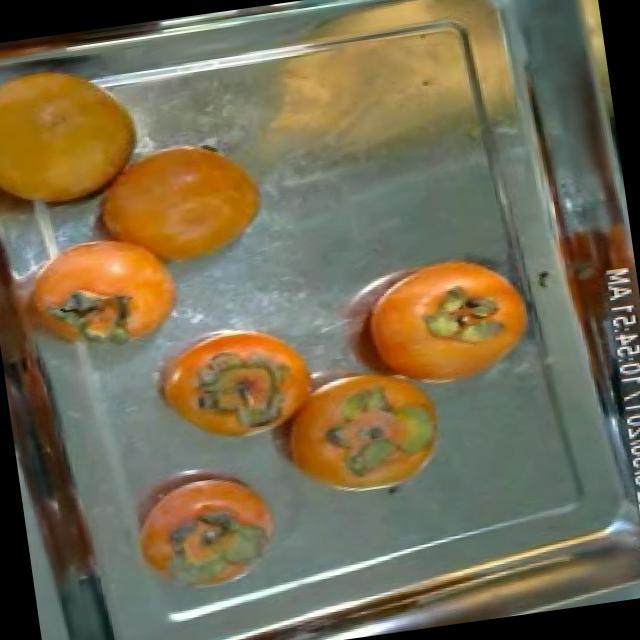Fruit: (334, 232, 552, 412), (82, 117, 286, 286), (265, 348, 467, 516), (128, 300, 336, 462), (0, 206, 203, 371), (0, 54, 167, 236), (115, 446, 297, 606)
